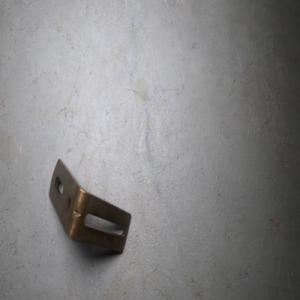MetalPart: (47, 156, 132, 255)
